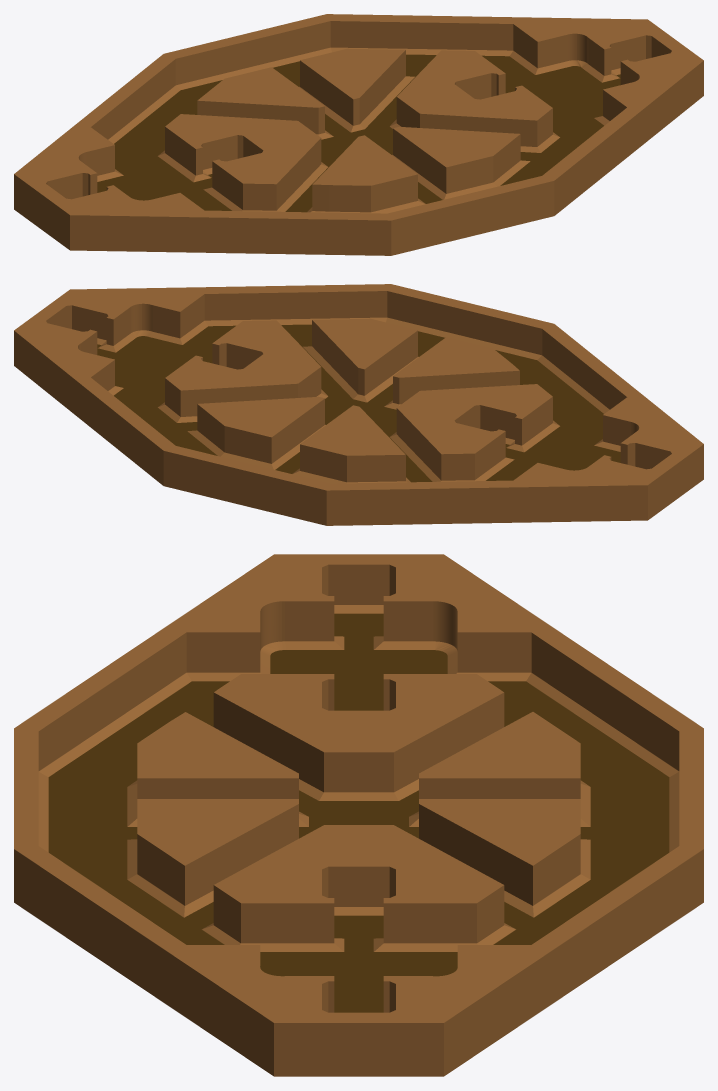
Rendered from Arena2Test V4.2.fbx.
The picture shows the model from 3 angles, top to bottom: view 1: azimuth 30°, elevation 25°; view 2: azimuth 150°, elevation 25°; view 3: azimuth 270°, elevation 25°; orthographic projection. The views are drawn at different scales.
Parts seen in each view (by area): view 1: Model; view 2: Model; view 3: Model.
Boxes of the visible parts, box(x1,y1,x2,y2) form: Model: box(14, 14, 703, 255); Model: box(14, 284, 703, 525); Model: box(14, 554, 703, 1076).
Bounding box in the file's own units: 225 × 12 × 140.
